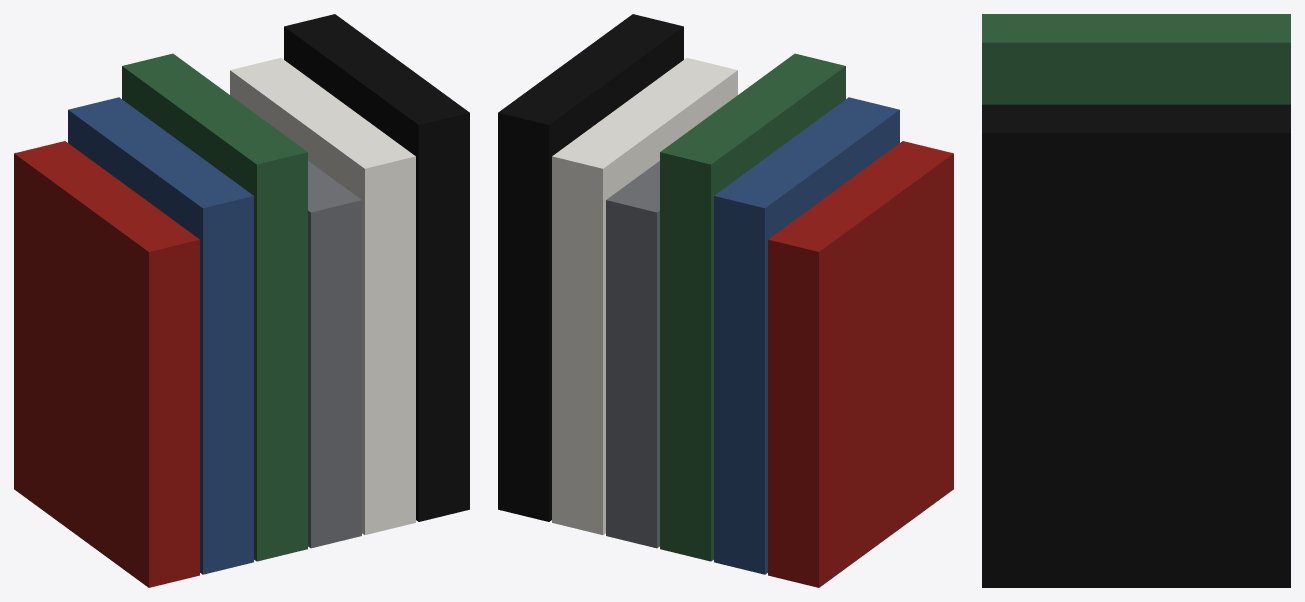
The model's file is home.soft.books.glb.
The picture shows the model from 3 angles, left to right: view 1: azimuth 30°, elevation 25°; view 2: azimuth 150°, elevation 25°; view 3: azimuth 270°, elevation 25°; orthographic projection. The views are drawn at different scales.
Parts seen in each view (by area): view 1: main__fabric_red, main__fabric_green, main__leather_black, main__fabric_blue, main__fabric_white, main__fabric_grey; view 2: main__fabric_red, main__fabric_green, main__leather_black, main__fabric_blue, main__fabric_white, main__fabric_grey; view 3: main__leather_black, main__fabric_green.
Part boxes in pixels (box(x1,y1,x2,y2)): main__fabric_red: box(14, 141, 199, 587); main__fabric_green: box(122, 53, 307, 561); main__leather_black: box(284, 14, 469, 521); main__fabric_blue: box(68, 97, 253, 574); main__fabric_white: box(230, 58, 415, 534); main__fabric_grey: box(308, 161, 361, 548); main__fabric_red: box(768, 141, 953, 587); main__fabric_green: box(660, 53, 845, 561); main__leather_black: box(498, 14, 683, 521); main__fabric_blue: box(714, 97, 899, 574); main__fabric_white: box(552, 58, 737, 534); main__fabric_grey: box(606, 161, 659, 548); main__leather_black: box(982, 104, 1290, 587); main__fabric_green: box(982, 14, 1290, 104).
Size of the model in its own units: 0.22 by 0.26 by 0.16.
